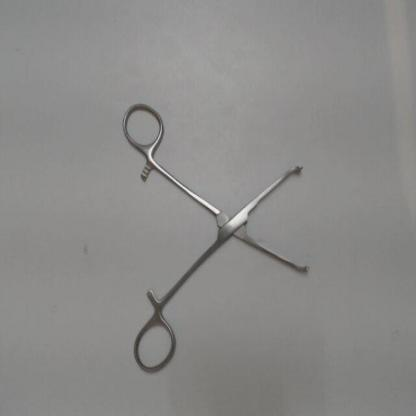Allis Tissue Forceps: (119, 96, 314, 380)
